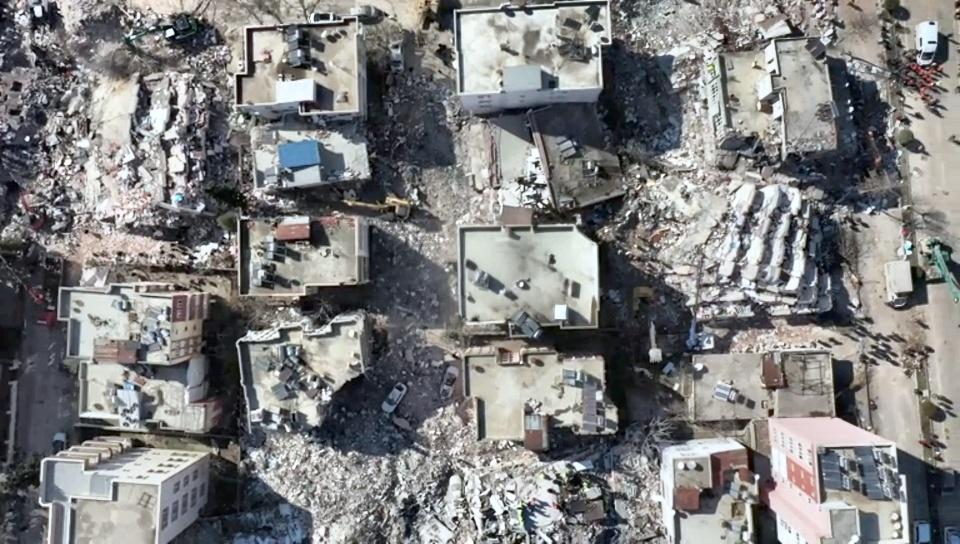kapali: (608, 0, 709, 355), (20, 0, 96, 374), (371, 287, 481, 543), (365, 0, 459, 266)
